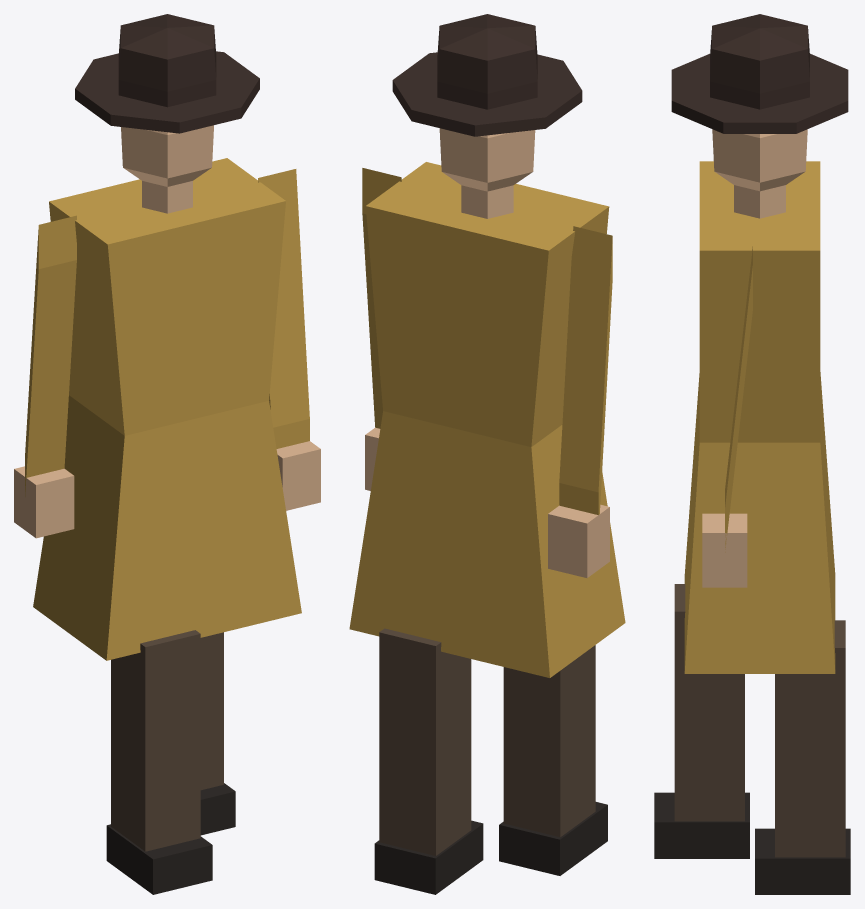
The model's file is life_person_f.glb.
The picture shows the model from 3 angles, left to right: view 1: azimuth 30°, elevation 25°; view 2: azimuth 150°, elevation 25°; view 3: azimuth 270°, elevation 25°; orthographic projection. The views are drawn at different scales.
Parts seen in each view (by area): view 1: life_person_f; view 2: life_person_f; view 3: life_person_f.
Boxes of the visible parts, bbox=[...] form: life_person_f: bbox=[14, 14, 320, 894]; life_person_f: bbox=[349, 14, 625, 894]; life_person_f: bbox=[654, 14, 850, 894].
Bounding box in the file's own units: 0.59 × 1.83 × 0.39.
